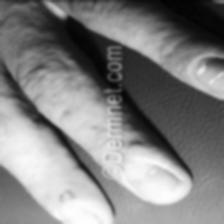Non-Cancerous Skin Condition: (58, 188, 80, 204)
